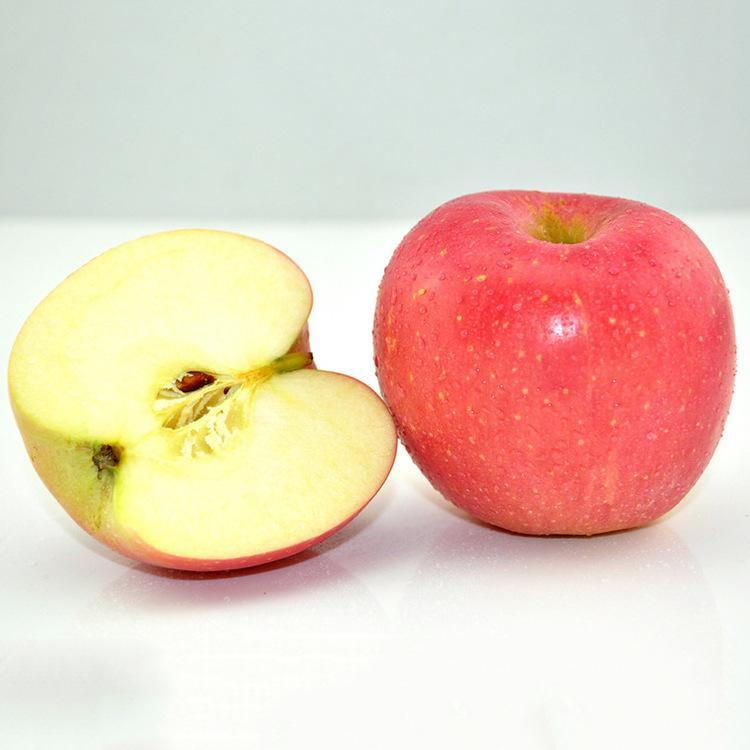apple: (369, 189, 735, 539)
